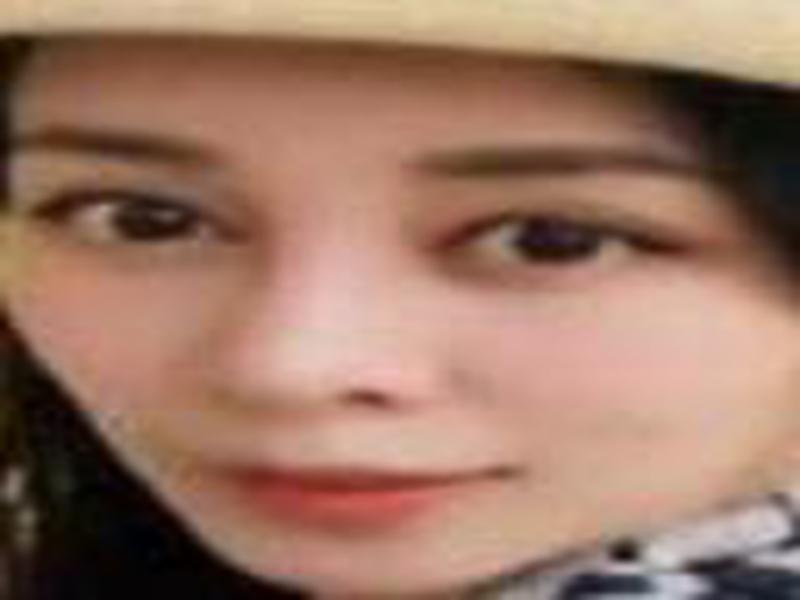without_mask: (6, 51, 787, 585)
